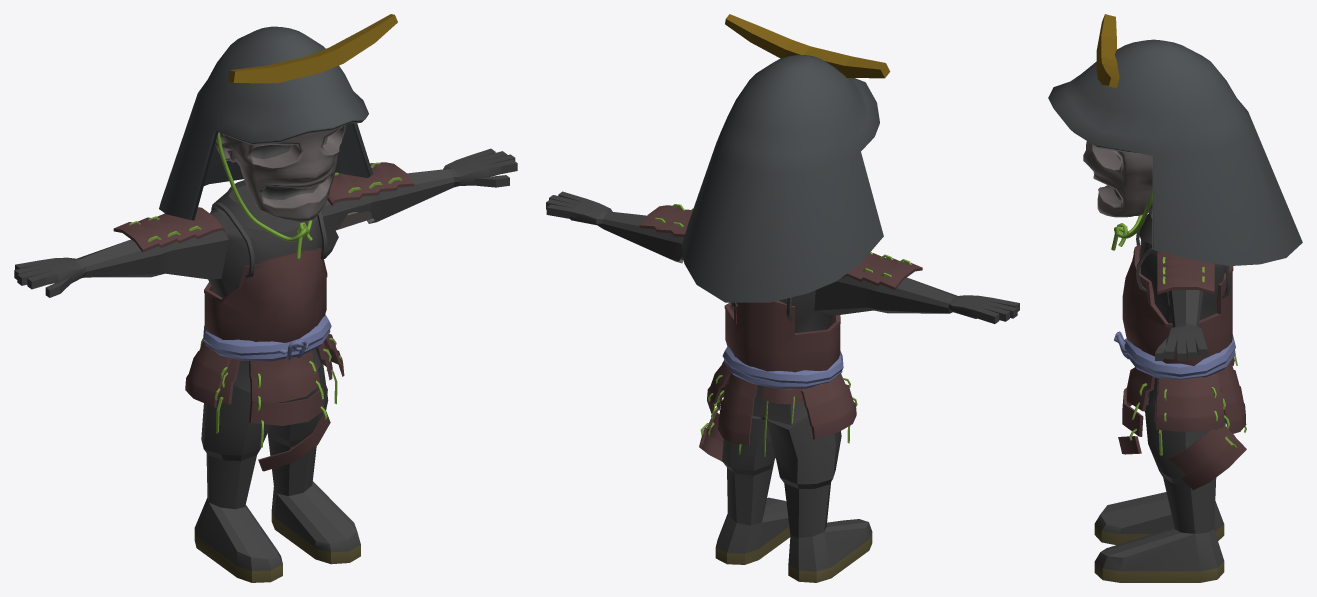
The model's file is otimusya.fbx.
The picture shows the model from 3 angles, left to right: view 1: azimuth 30°, elevation 25°; view 2: azimuth 150°, elevation 25°; view 3: azimuth 270°, elevation 25°; orthographic projection. The views are drawn at different scales.
Parts seen in each view (by area): view 1: polySurface4, pCylinder1, pCube7, pCube4, pCube19, pCube17, pCube5, pCube24, pTorus3, pCone1, sweep2, pCube18 (+2 smaller); view 2: pCylinder1, polySurface4, pCube7, pCube24, pCube5, pCube23, pCube17, pTorus3, pCube18, pTorus4; view 3: pCylinder1, polySurface4, pCube7, pCube4, pCube24, pCube18, pCube17, pCube19, pTorus3, pCube5, pCube23, pTorus4 (+2 smaller).
Boxes of the visible parts, x1,y1,x2,y2 form: polySurface4: [14, 148, 517, 582]; pCylinder1: [159, 26, 372, 220]; pCube7: [204, 248, 327, 342]; pCube4: [215, 124, 346, 222]; pCube19: [249, 350, 330, 471]; pCube17: [113, 162, 414, 252]; pCube5: [228, 14, 397, 83]; pCube24: [185, 333, 344, 407]; pTorus3: [203, 314, 331, 355]; pCone1: [212, 180, 304, 232]; sweep2: [216, 132, 309, 258]; pCube18: [217, 342, 332, 404]; pCylinder1: [682, 55, 883, 302]; polySurface4: [546, 191, 1019, 582]; pCube7: [724, 300, 840, 372]; pCube24: [707, 361, 856, 439]; pCube5: [725, 14, 890, 78]; pCube23: [718, 373, 802, 444]; pCube17: [639, 205, 922, 290]; pTorus3: [722, 346, 843, 383]; pCube18: [699, 376, 812, 461]; pTorus4: [724, 359, 842, 388]; pCylinder1: [1048, 39, 1302, 265]; polySurface4: [1094, 240, 1225, 582]; pCube7: [1122, 245, 1233, 365]; pCube4: [1083, 141, 1152, 217]; pCube24: [1155, 373, 1223, 431]; pCube18: [1154, 378, 1246, 490]; pCube17: [1157, 251, 1214, 294]; pCube19: [1118, 367, 1155, 454]; pTorus3: [1124, 334, 1235, 376]; pCube5: [1096, 14, 1119, 88]; pCube23: [1215, 357, 1246, 433]; pTorus4: [1126, 350, 1235, 379].
Bounding box in the file's own units: 726 × 744 × 330.
